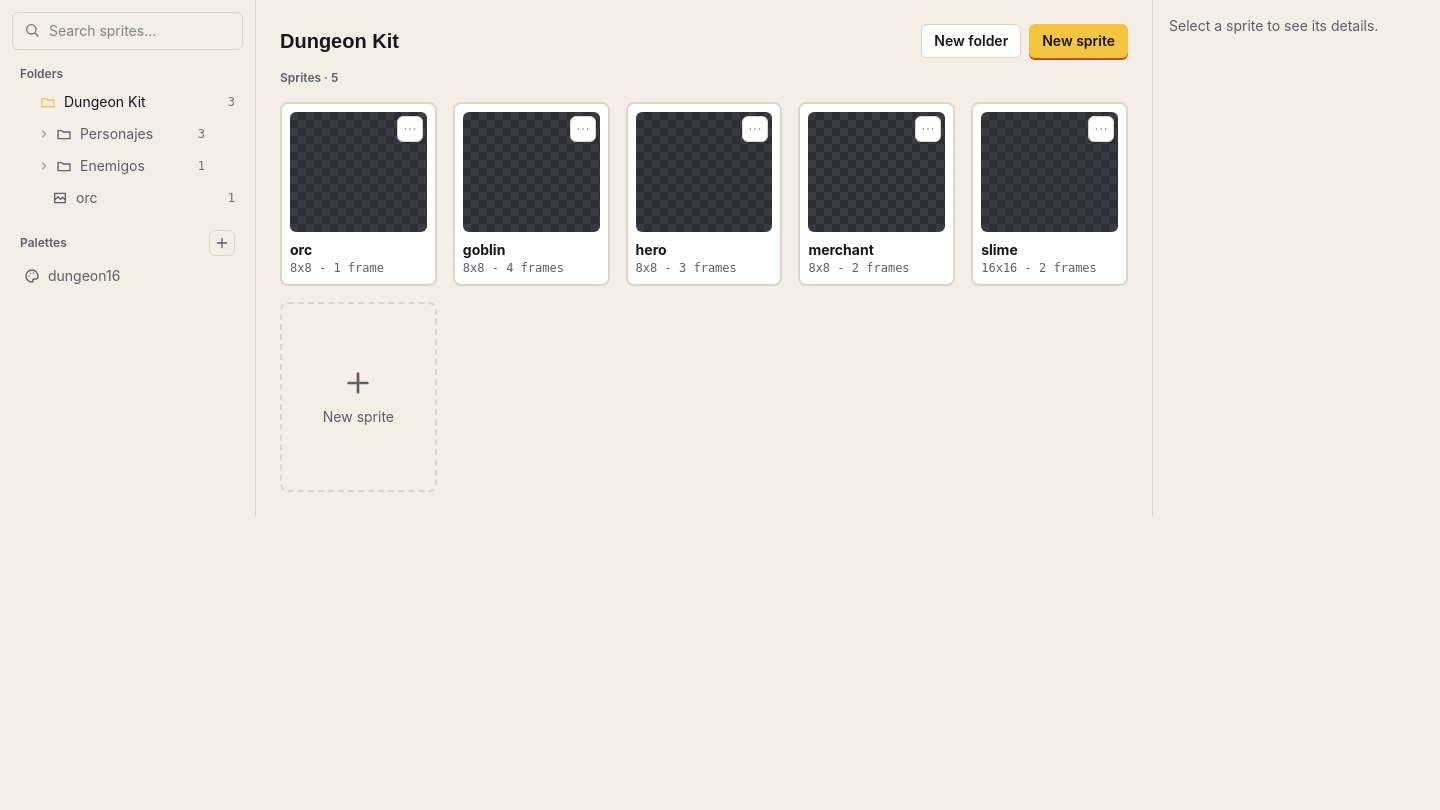
Test: New sprite dialog › fills the size fields with a preset
What coordinates should you click on to do the following:
click the 1st button "New sprite"
I would click on:
 (1079, 41)
Its box is [1029,24,1128,58].
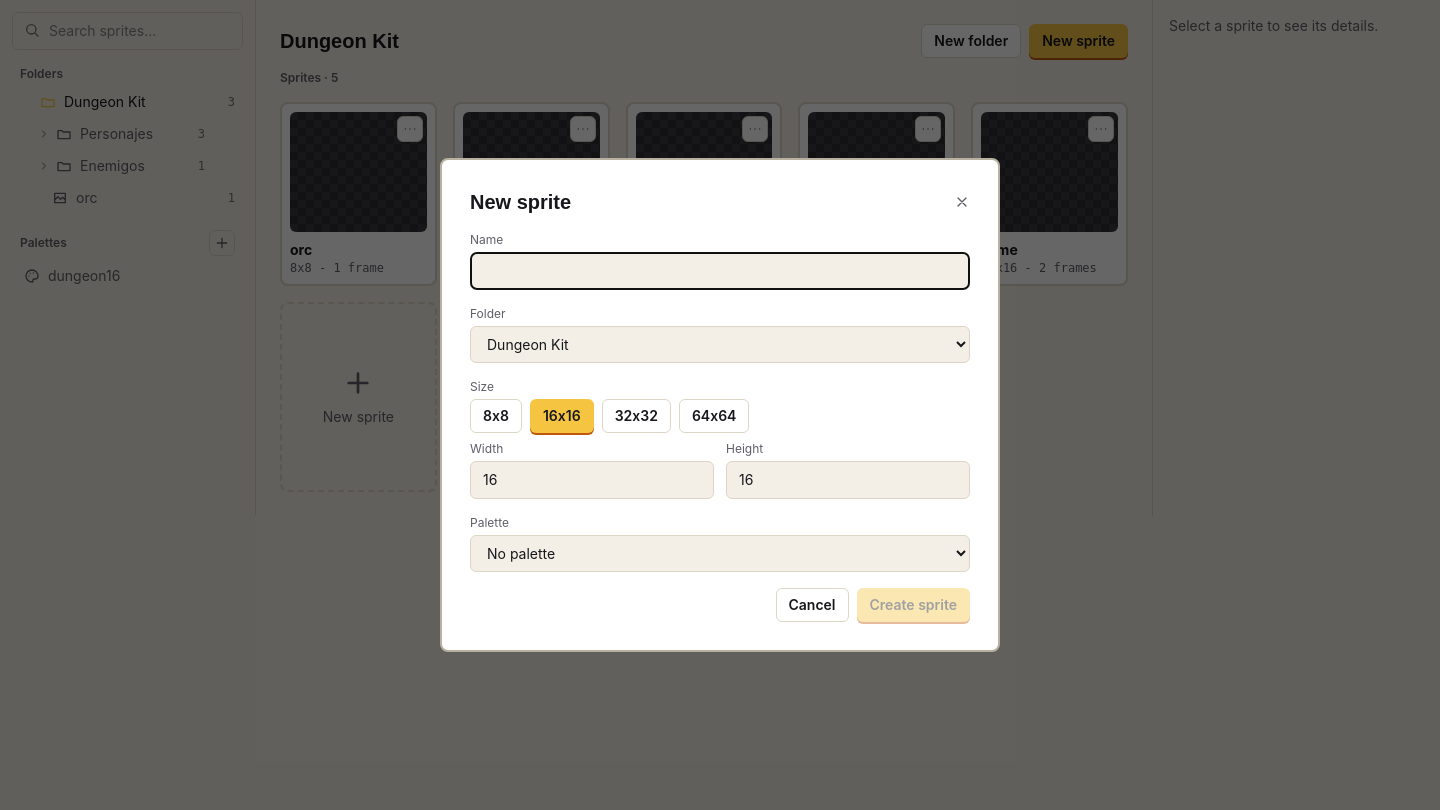
What coordinates should you click on to do the following:
click the button "32x32"
I would click on:
 (636, 416)
Its box is [602,399,671,433].
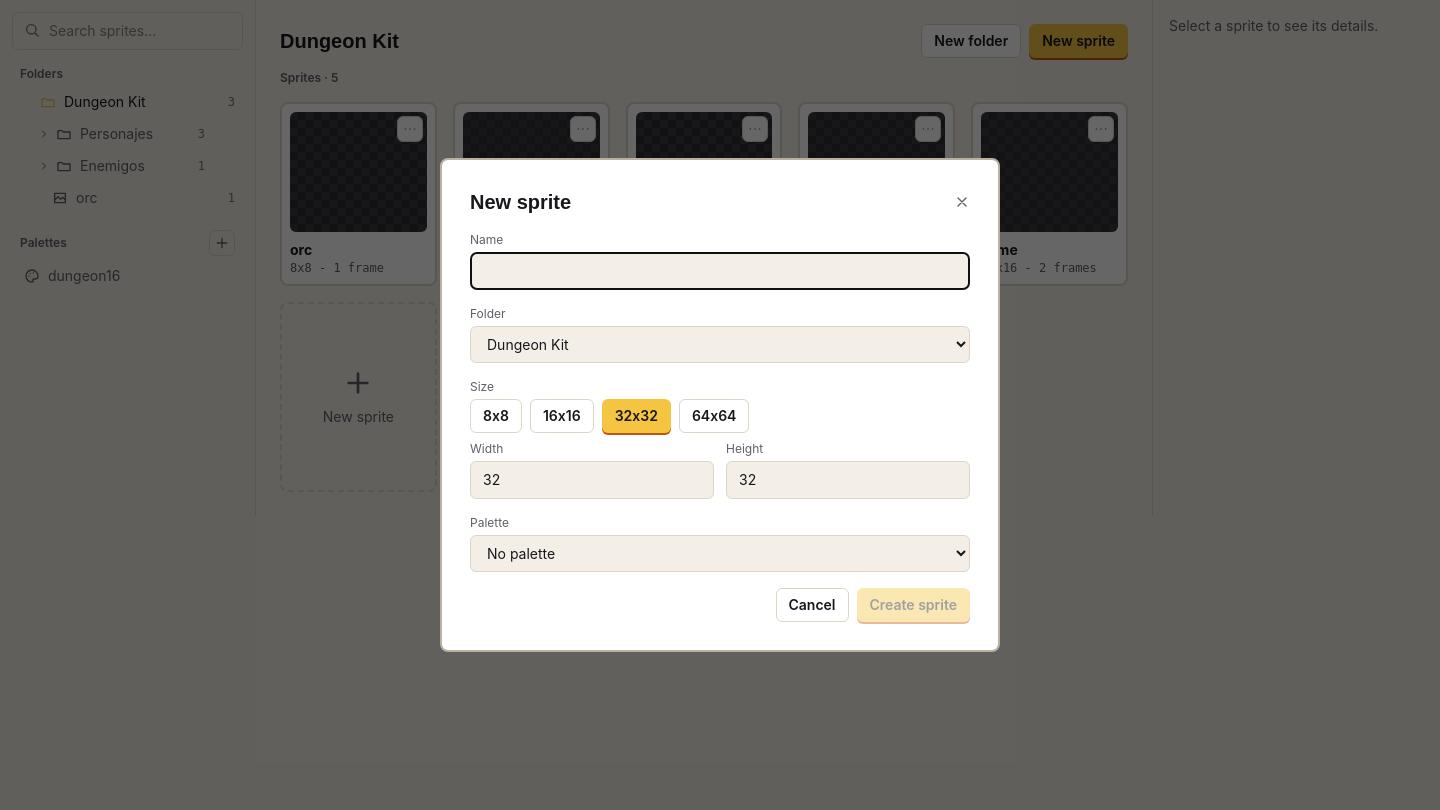
Expected: the button "32x32" is shown, [602,399,671,433]
Expected: the number field labelled "Width" holds "32", [470,461,714,499]
Expected: the number field labelled "Height" holds "32", [726,461,970,499]
